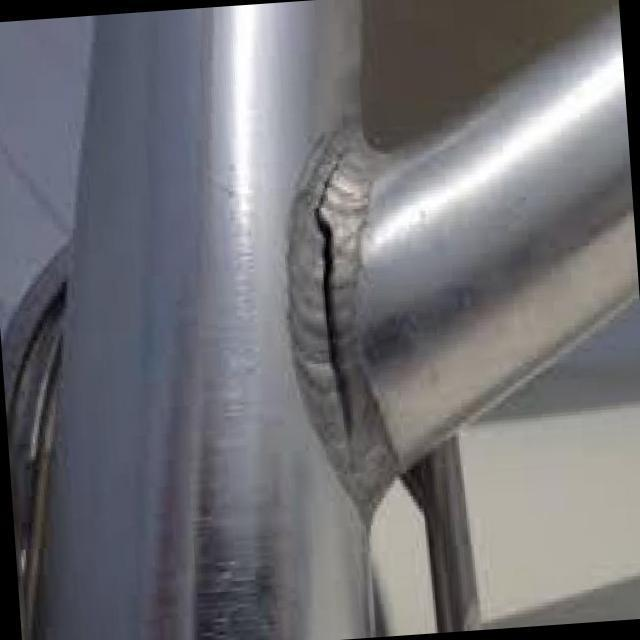defect: (307, 143, 360, 487)
